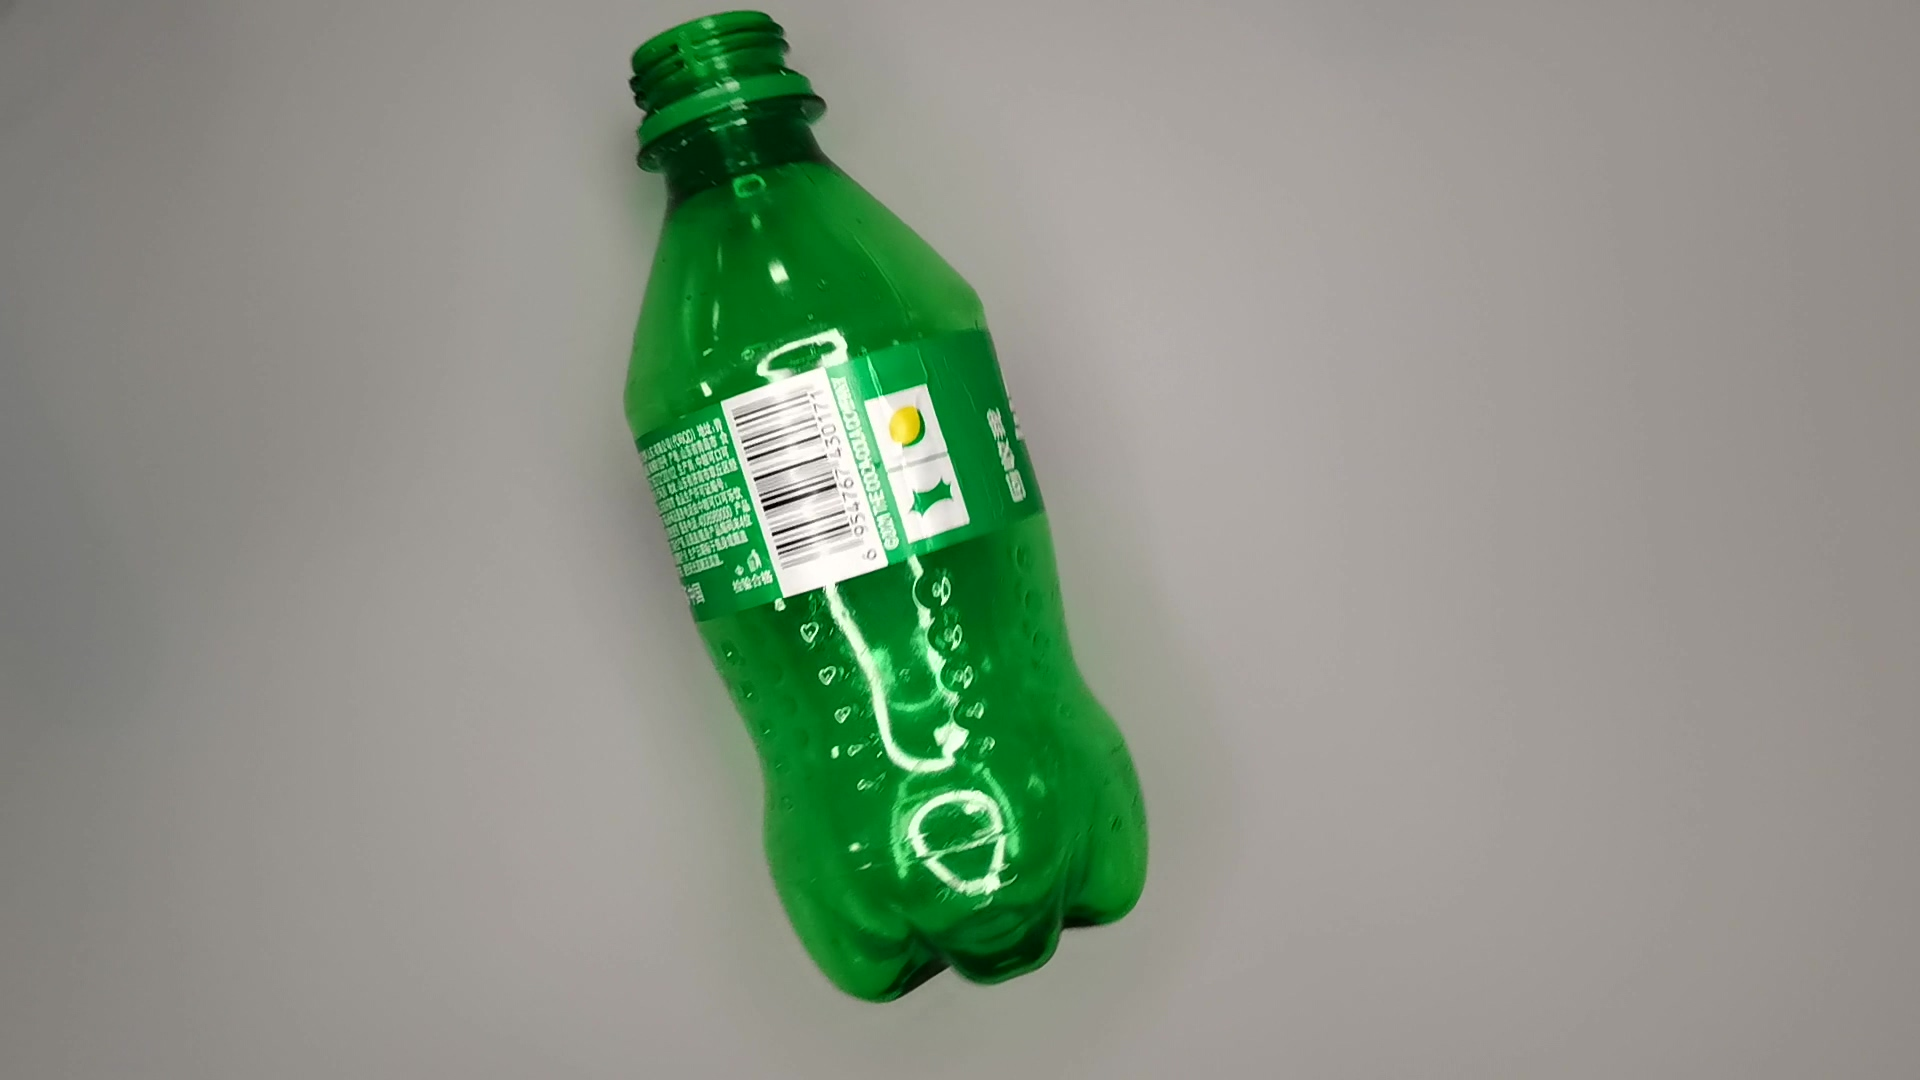bottle: (608, 11, 1160, 1009)
